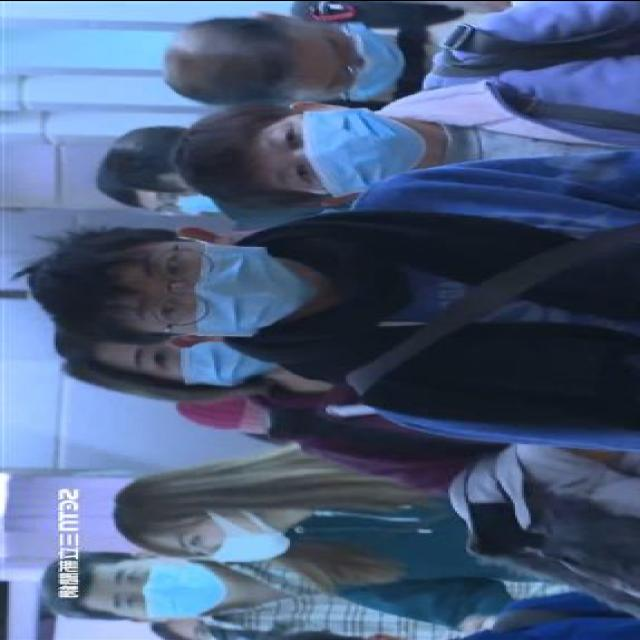mask: (132, 234, 308, 334), (259, 105, 419, 197), (98, 553, 220, 619), (310, 19, 406, 100), (116, 338, 276, 386), (170, 510, 294, 562)
